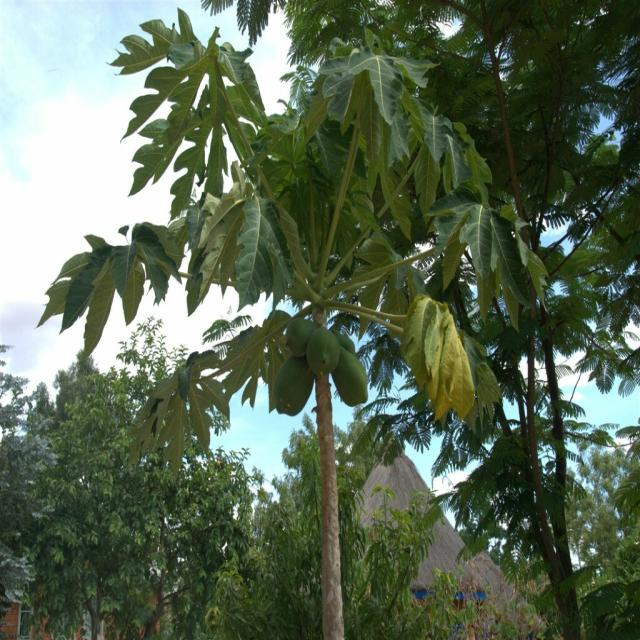Papaya-Tree: (51, 28, 527, 632)
